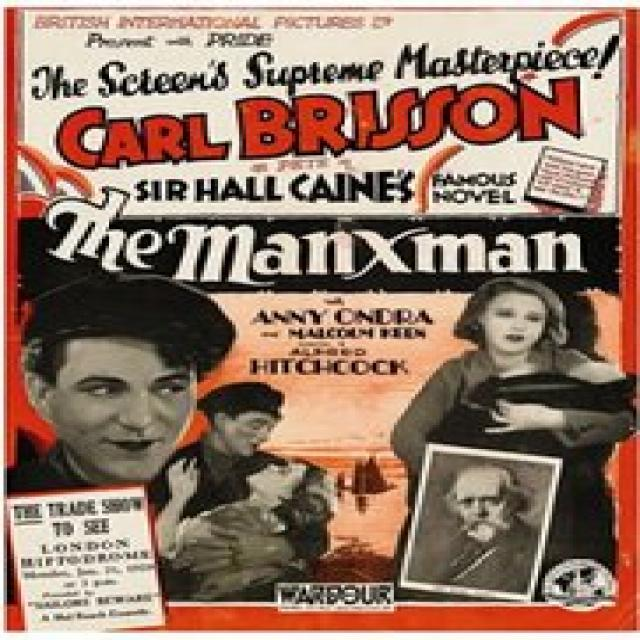movie-judul: (24, 59, 610, 286)
picture: (38, 286, 624, 594)
